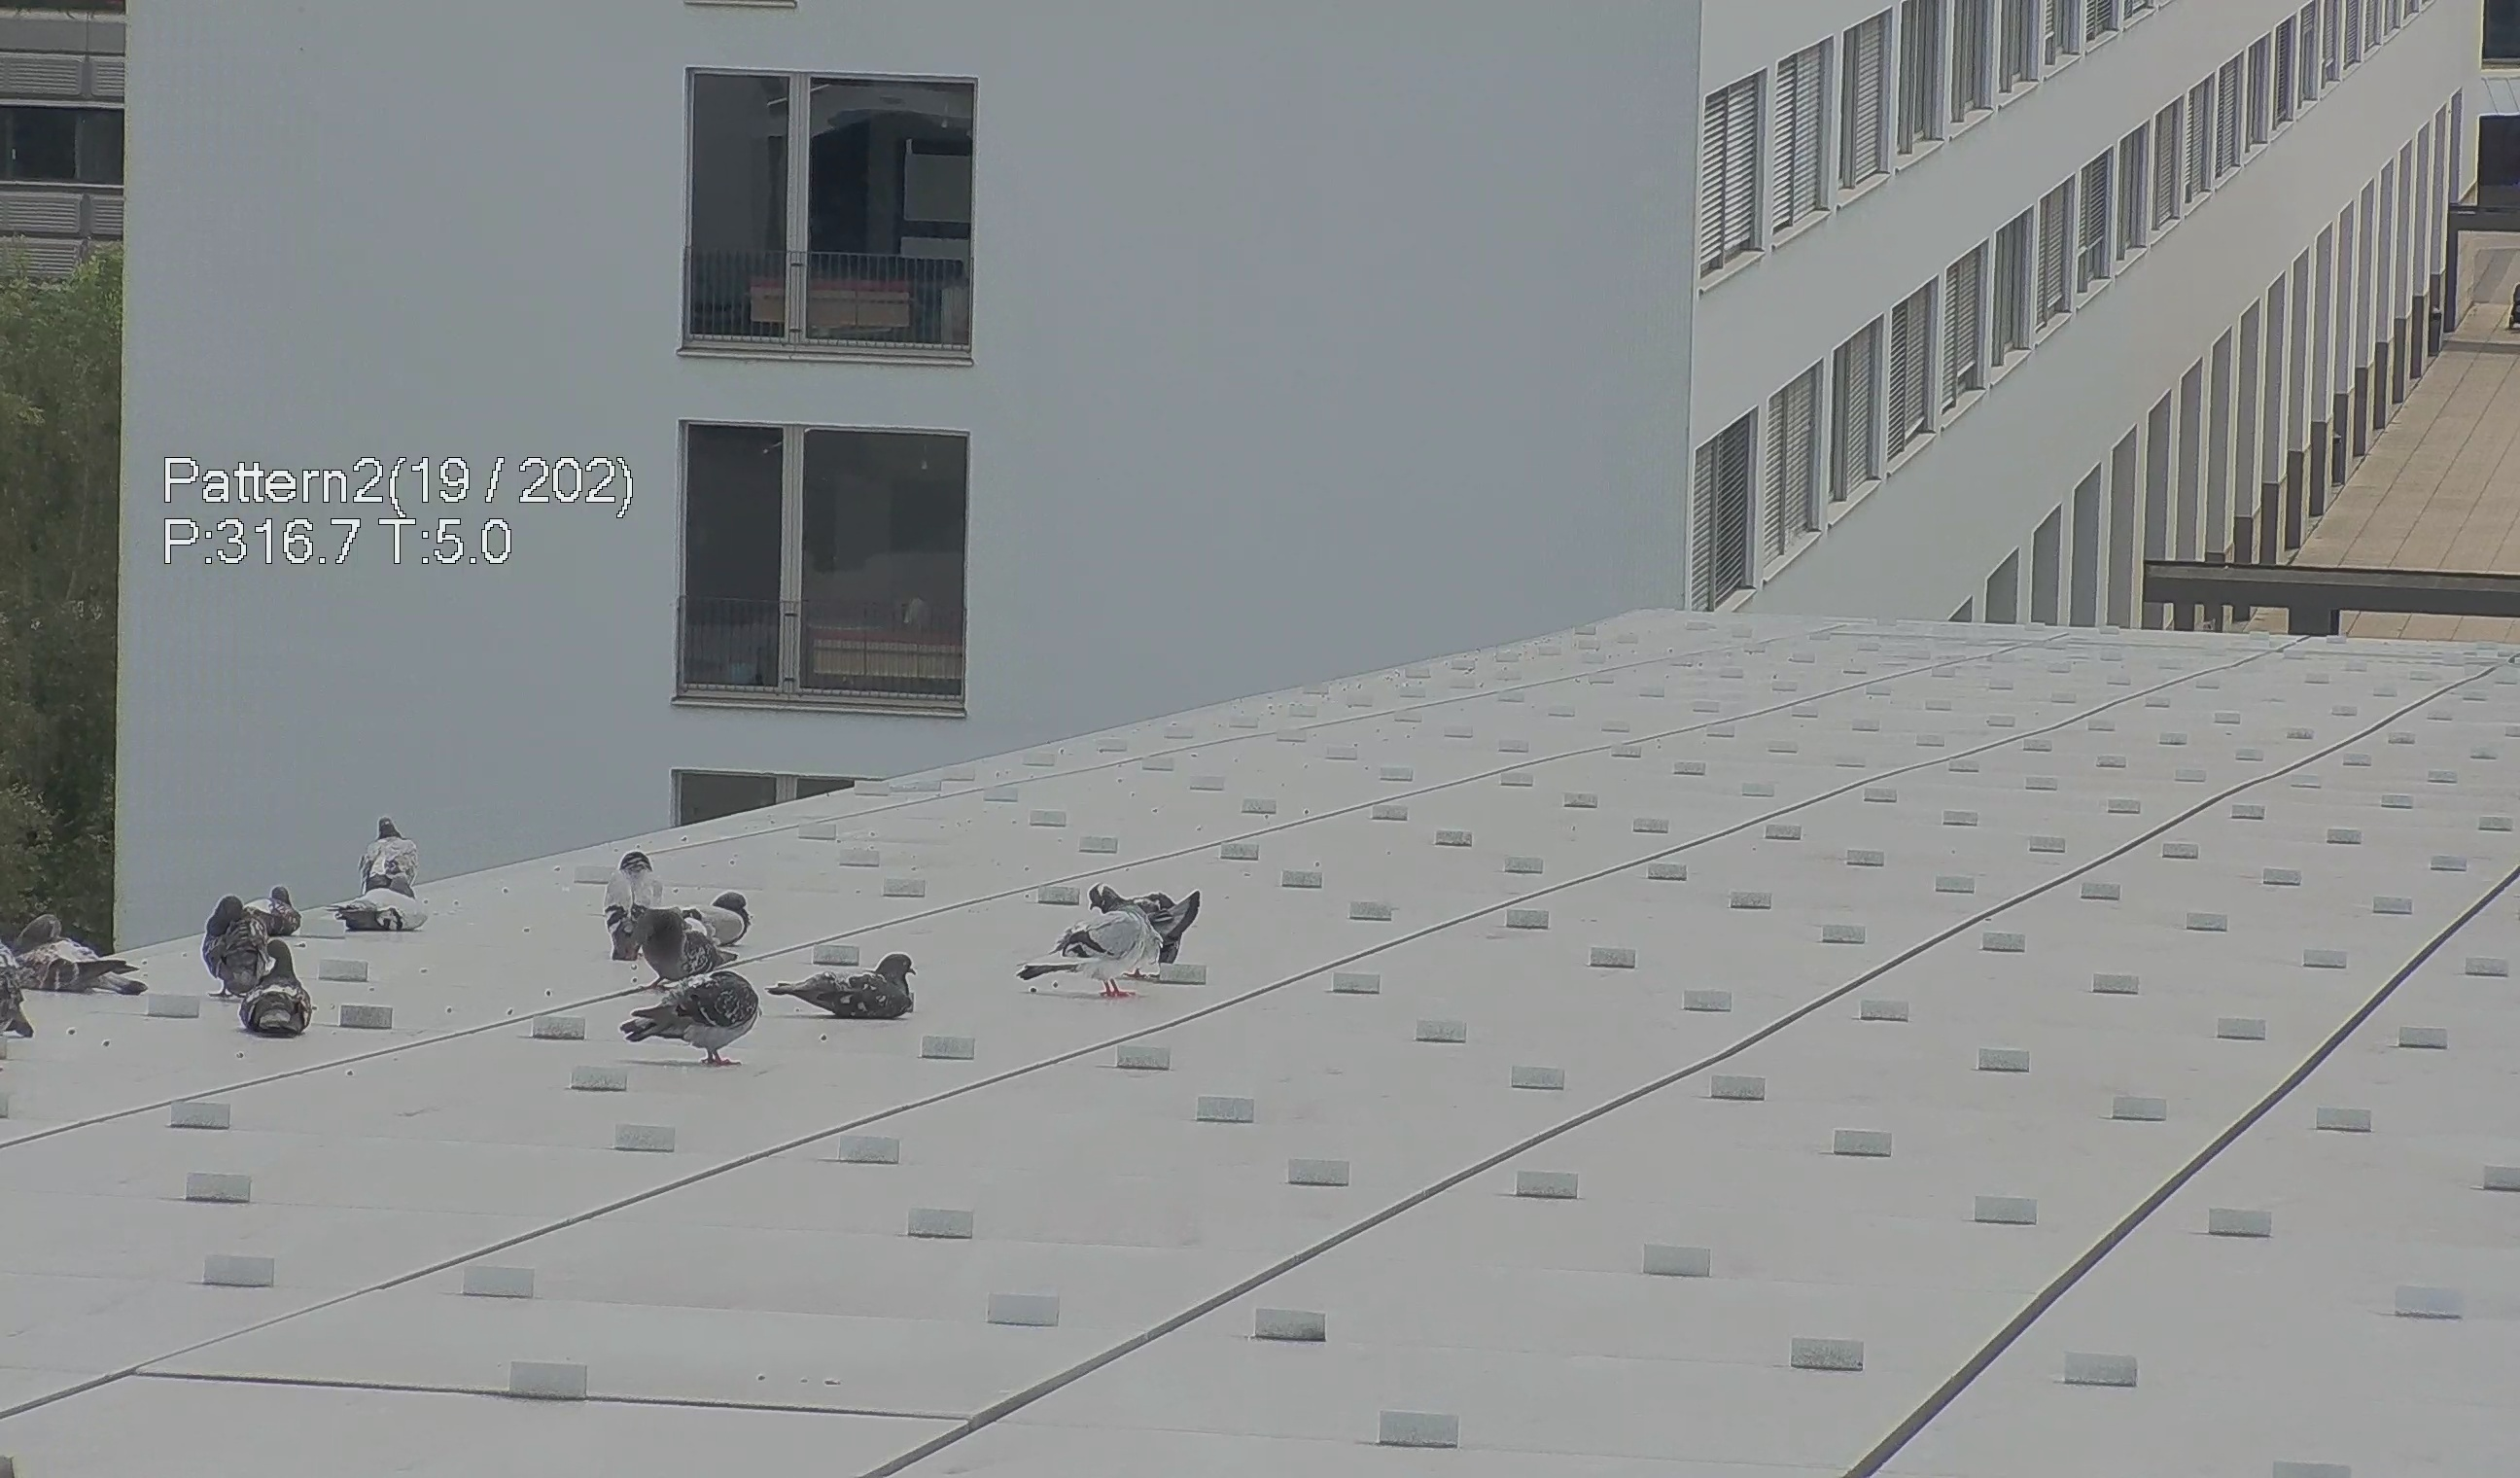Pigeon: (612, 948, 770, 1080), (1082, 866, 1210, 996), (1009, 896, 1155, 1005), (631, 874, 760, 985), (14, 901, 151, 1001), (781, 947, 913, 1033), (218, 931, 327, 1035), (605, 841, 663, 971), (334, 862, 429, 940), (195, 890, 266, 994), (361, 818, 426, 892), (239, 876, 311, 941)
